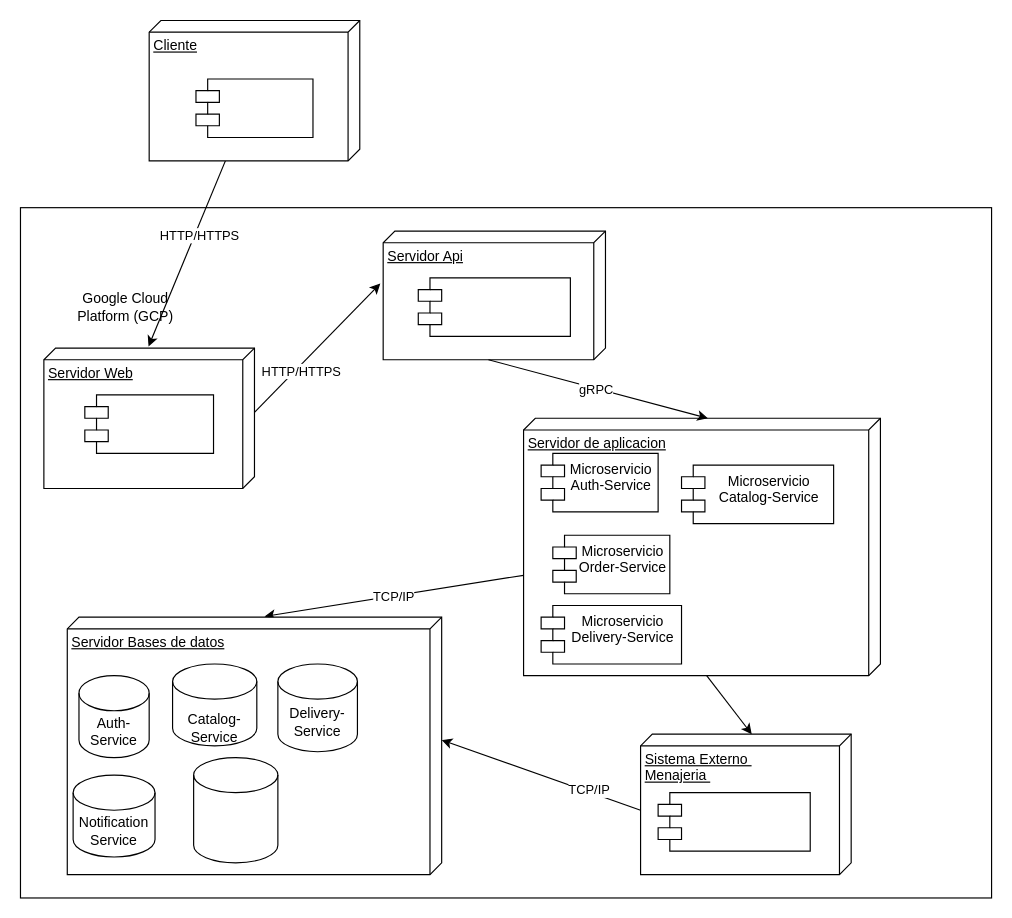
Some shapes in this 1012 by 918 pixel diagram are drawn without their labels. Here are the shapes that lost their labels. From the top down, the centre of each, then its label:
At point 254,107: "Navegador Web".
At point 493,306: "Microservicio API-Gateway".
At point 149,423: "Pagina web html".
At point 235,809: "Order-Service".
At point 733,821: "Servicio Mensajeria".
